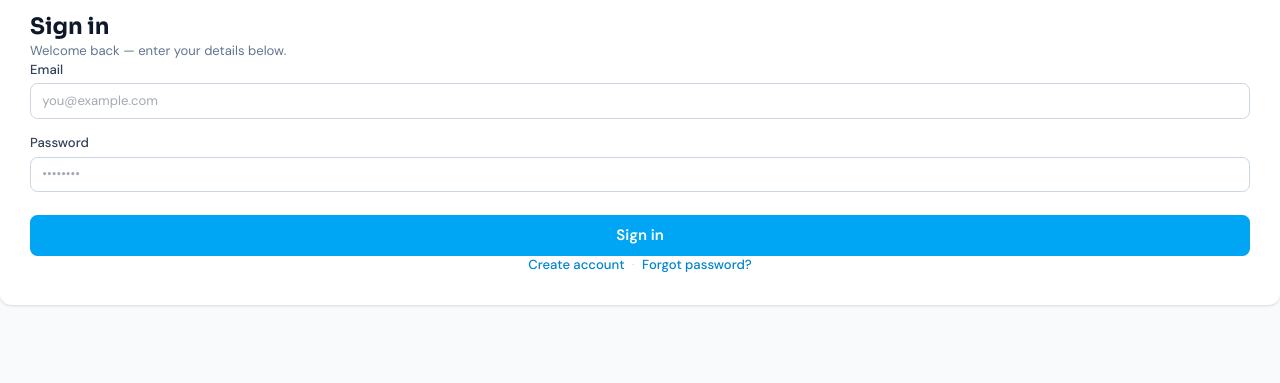
Test case: LoginForm › shows validation error for invalid email
In the field labelled "Email": (640, 101) [30,83,1250,119], type "notanemail"
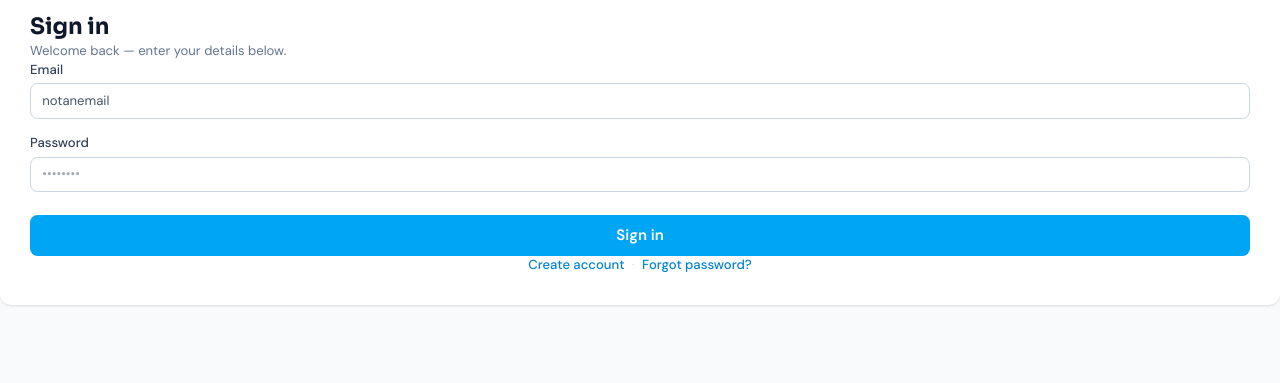
Click the button "Sign in": (640, 235) [30,215,1250,256]
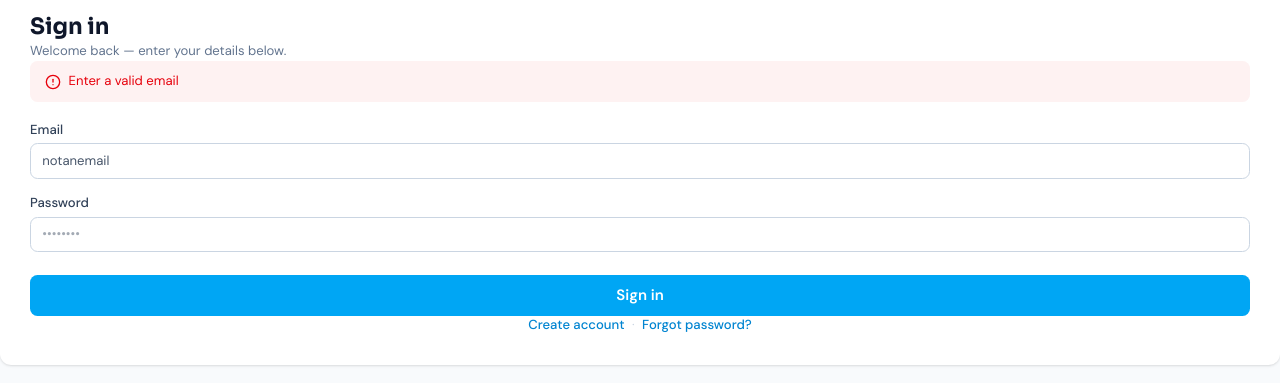
expect the message shows "valid email": met, box [68,72,179,89]
